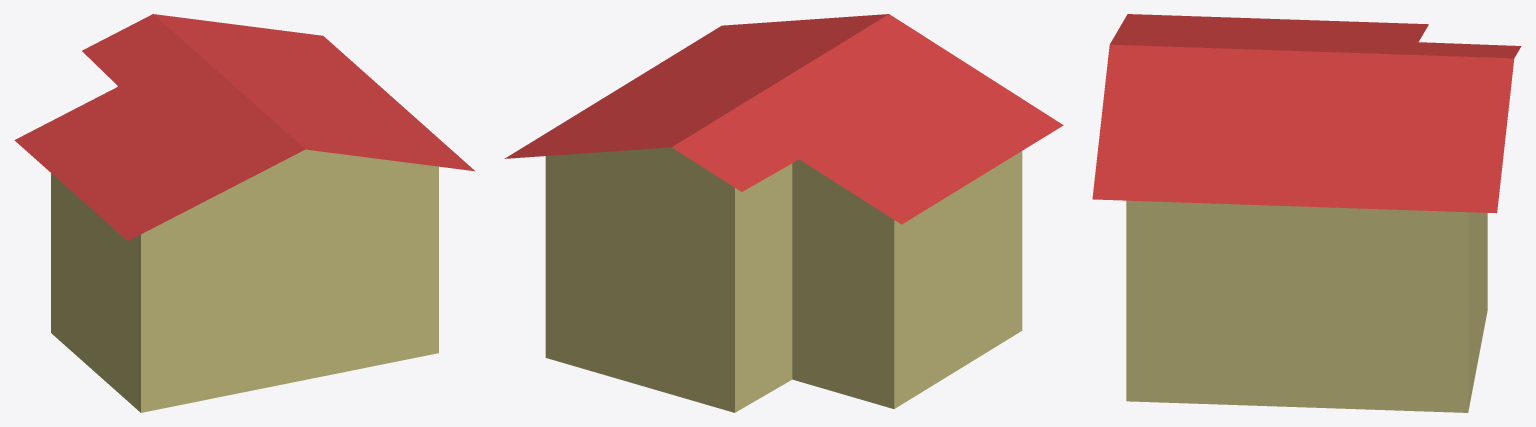
The picture shows the model from 3 angles, left to right: view 1: azimuth 30°, elevation 25°; view 2: azimuth 150°, elevation 25°; view 3: azimuth 270°, elevation 25°; orthographic projection. The views are drawn at different scales.
Size of the model in its own units: 14.95 by 13.61 by 9.73.
